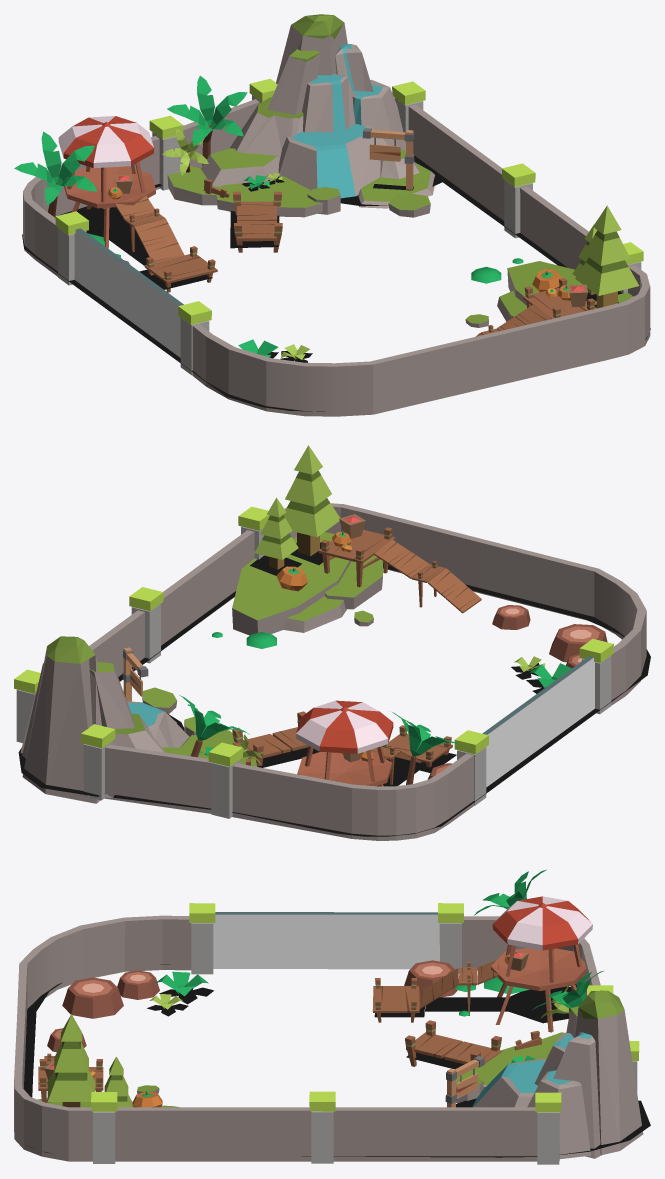
File: xweilan_1008_4.FBX
The picture shows the model from 3 angles, top to bottom: view 1: azimuth 30°, elevation 25°; view 2: azimuth 150°, elevation 25°; view 3: azimuth 270°, elevation 25°; orthographic projection.
Visible parts, largest first — view 1: xweilan_1008_4; view 2: xweilan_1008_4; view 3: xweilan_1008_4.
Part boxes in pixels (<box>): xweilan_1008_4: <box>14,14,650,416</box>; xweilan_1008_4: <box>14,445,650,840</box>; xweilan_1008_4: <box>14,869,650,1164</box>.
Bounding box in the file's own units: 4573 × 1496 × 5999.
